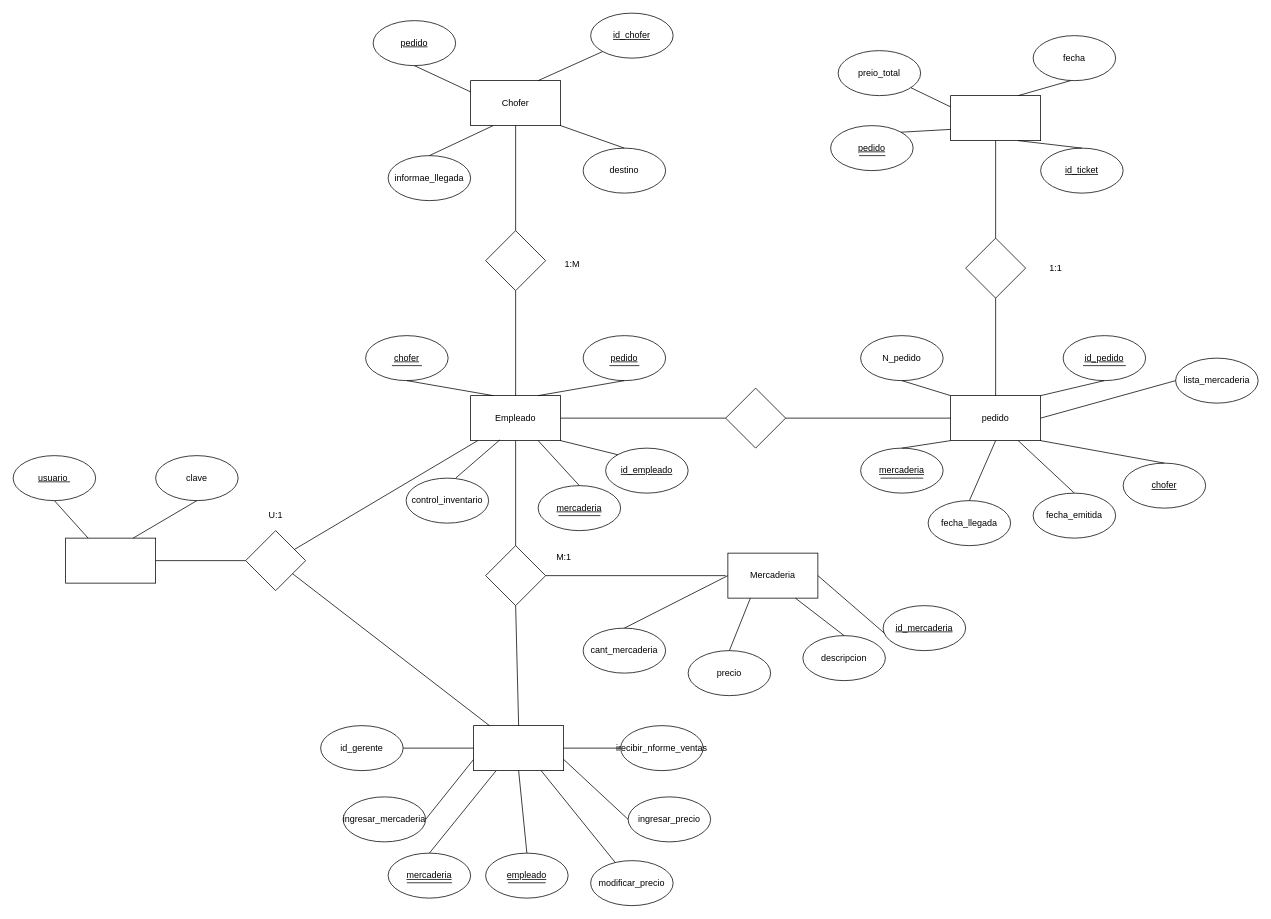
The diagram is 1271 pixels wide and 919 high, and some of its shapes have lost their labels. Each missing label, with the centre of its shape:
administrar: point (515, 260)
facturar: point (995, 267)
generar: point (755, 417)
Gerente: point (518, 748)
gestionar: point (515, 575)
login: point (275, 560)
ticket: point (995, 118)
user: point (110, 560)
